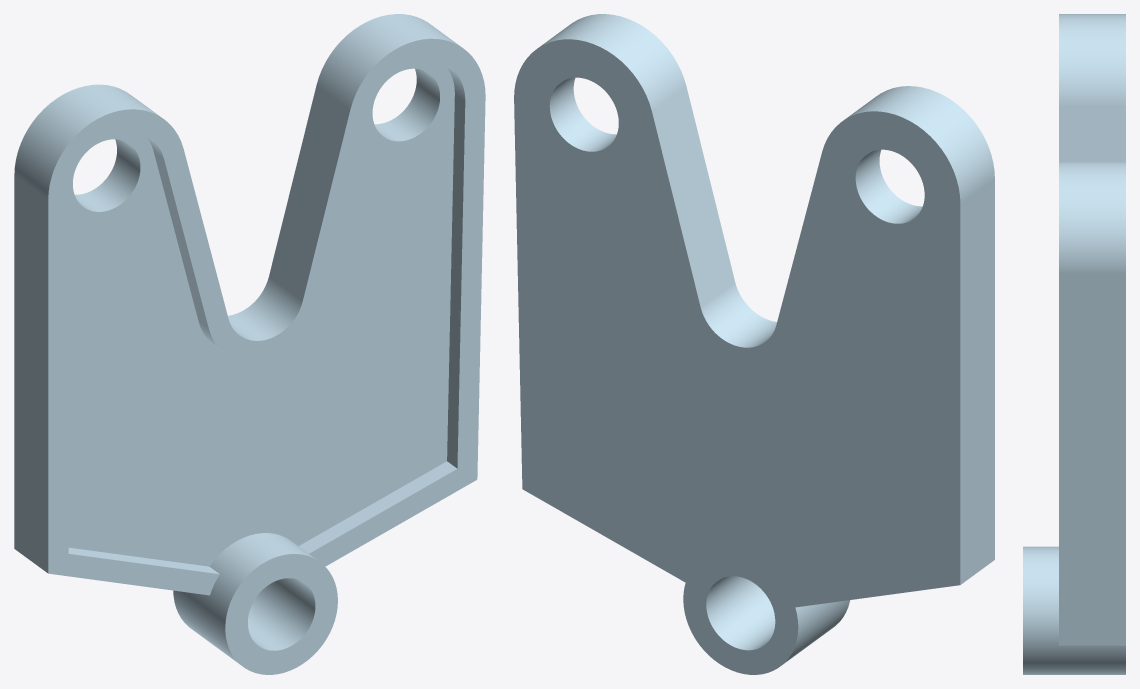
File: PiezaTIC.gltf
3 views of the same model, side by side, from view 1: azimuth 30°, elevation 25°; view 2: azimuth 150°, elevation 25°; view 3: azimuth 270°, elevation 25° (orthographic). The views are drawn at different scales.
Visible parts, largest first — view 1: Part 1; view 2: Part 1; view 3: Part 1.
Boxes of the visible parts, x1,y1,x2,y2 form: Part 1: (14,14,485,674); Part 1: (514,14,994,674); Part 1: (1023,14,1125,674).
Size of the model in its own units: 0.388 by 0.4955 by 0.08.
